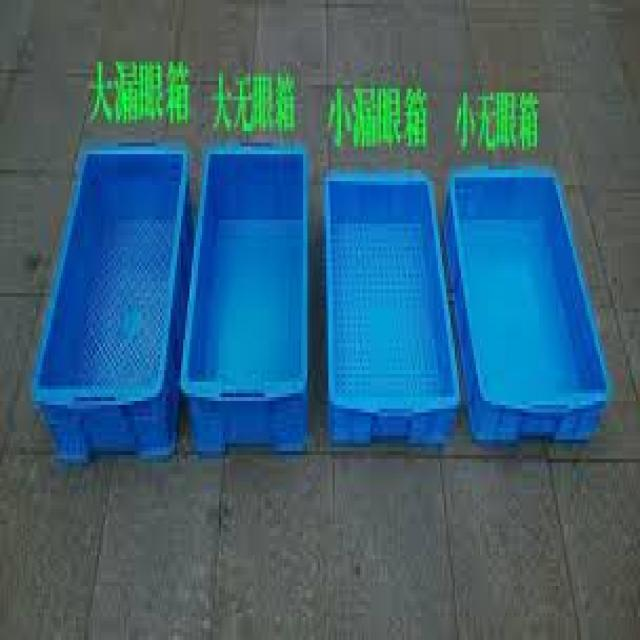basket: (27, 138, 202, 469), (440, 163, 613, 446), (179, 143, 313, 455), (325, 171, 462, 443)
